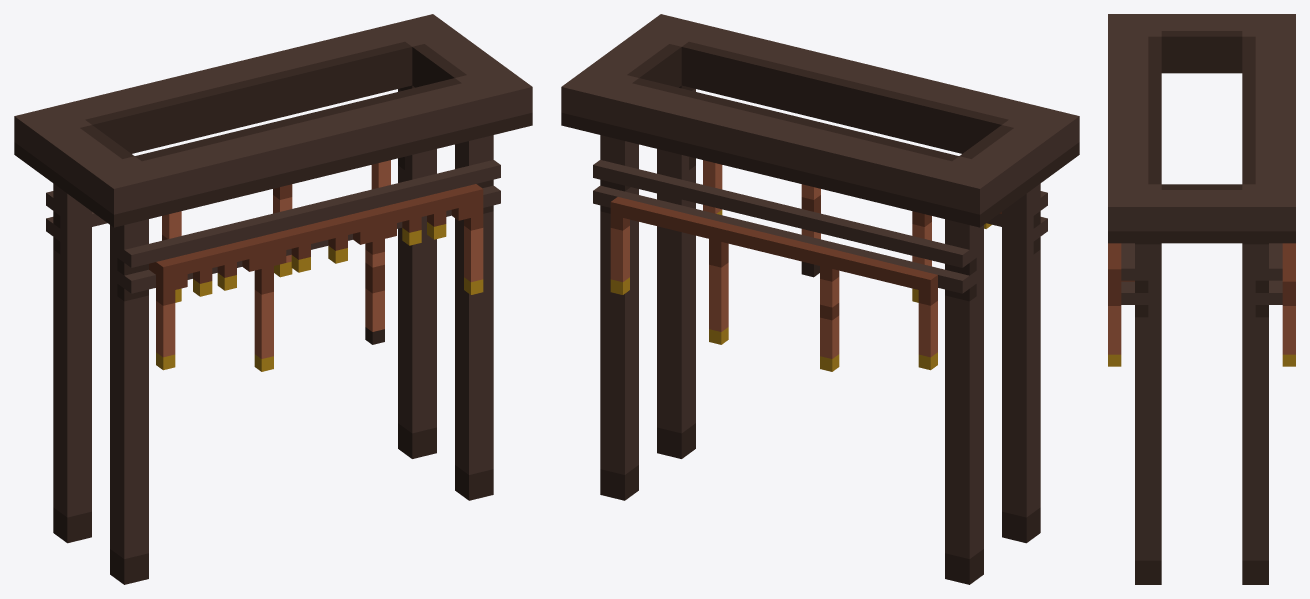
File: ExtraProp-0-Arch.obj
The picture shows the model from 3 angles, left to right: view 1: azimuth 30°, elevation 25°; view 2: azimuth 150°, elevation 25°; view 3: azimuth 270°, elevation 25°; orthographic projection. The views are drawn at different scales.
Parts seen in each view (by area): view 1: Arch; view 2: Arch; view 3: Arch.
Part boxes in pixels (<box>): Arch: <box>14,14,532,584</box>; Arch: <box>561,14,1079,584</box>; Arch: <box>1108,14,1295,584</box>.
Bounding box in the file's own units: 3.4 × 3.2 × 1.4.
1 material, 1 textured.
